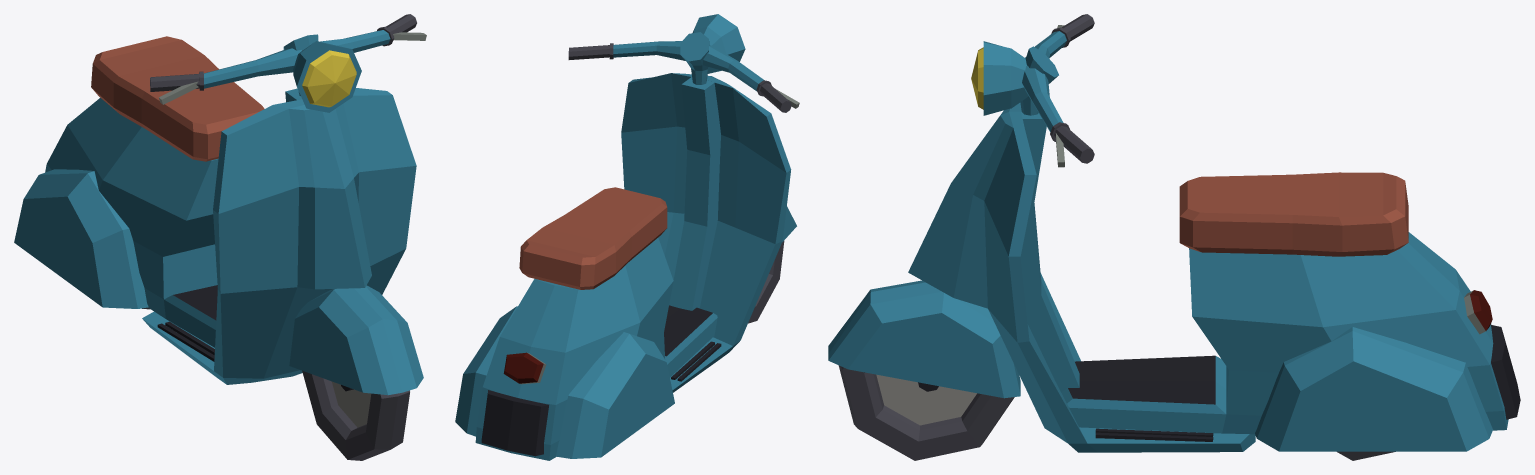
Rendered from Scooter_01.fbx.
3 renders of one model, left to right at view 1: azimuth 30°, elevation 25°; view 2: azimuth 150°, elevation 25°; view 3: azimuth 270°, elevation 25°, orthographic. The views are drawn at different scales.
Parts seen in each view (by area): view 1: Body, Body_Details, Wheels, Lights; view 2: Body, Body_Details, Lights, Wheels; view 3: Body, Body_Details, Wheels, Lights.
Boxes of the visible parts, bbox=[...] form: Body: bbox=[14, 30, 423, 395]; Body_Details: bbox=[91, 14, 426, 391]; Wheels: bbox=[142, 307, 409, 460]; Lights: bbox=[302, 50, 356, 107]; Body: bbox=[455, 14, 796, 460]; Body_Details: bbox=[481, 43, 799, 456]; Lights: bbox=[503, 352, 543, 383]; Wheels: bbox=[748, 241, 784, 323]; Body: bbox=[828, 31, 1508, 452]; Body_Details: bbox=[918, 14, 1520, 441]; Wheels: bbox=[838, 365, 1395, 460]; Lights: bbox=[971, 47, 1492, 330].
Bounding box in the file's own units: 0.9391 × 1.32 × 1.99.
